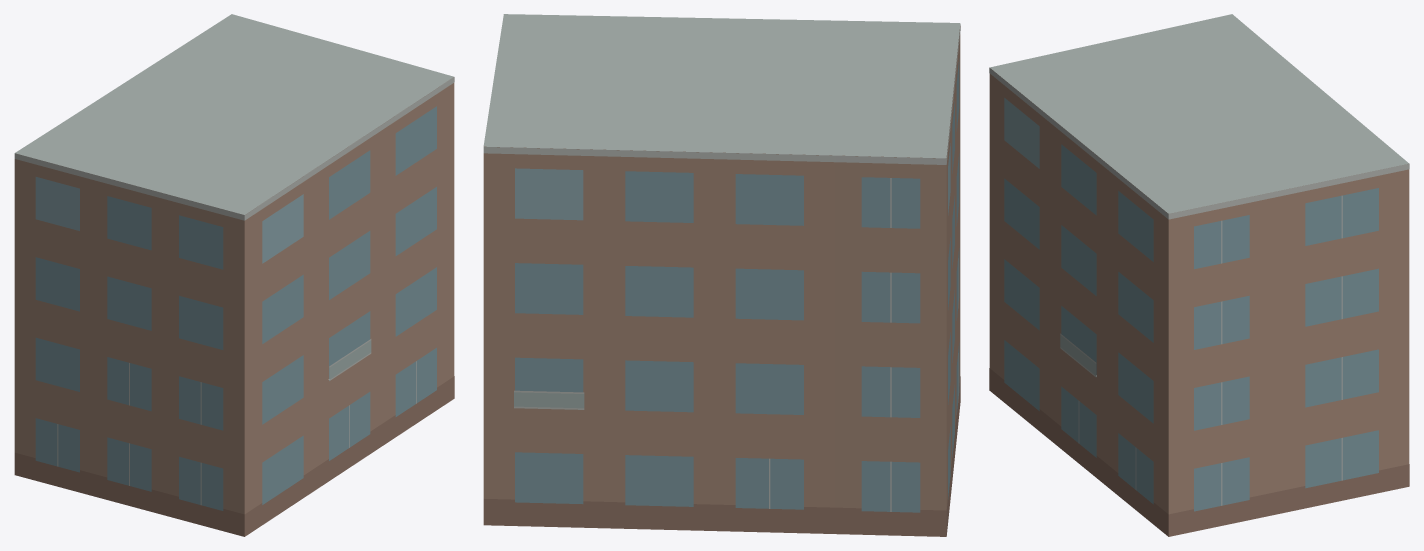
Rendered from survey-upis-32801568.glb.
3 views of the same model, side by side, from view 1: azimuth 30°, elevation 25°; view 2: azimuth 150°, elevation 25°; view 3: azimuth 270°, elevation 25° (orthographic). The views are drawn at different scales.
Visible parts, largest first — view 1: survey-upis-32801568.tmp; view 2: survey-upis-32801568.tmp; view 3: survey-upis-32801568.tmp.
Boxes of the visible parts, x1,y1,x2,y2 form: survey-upis-32801568.tmp: [14, 14, 454, 536]; survey-upis-32801568.tmp: [483, 14, 960, 536]; survey-upis-32801568.tmp: [989, 14, 1409, 536].
Bounding box in the file's own units: 18.39 × 13.85 × 16.33.
